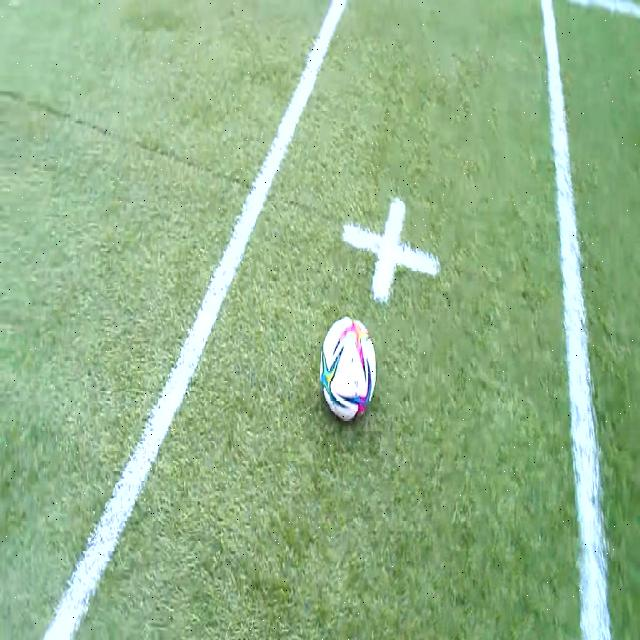ball: (320, 317, 376, 421)
